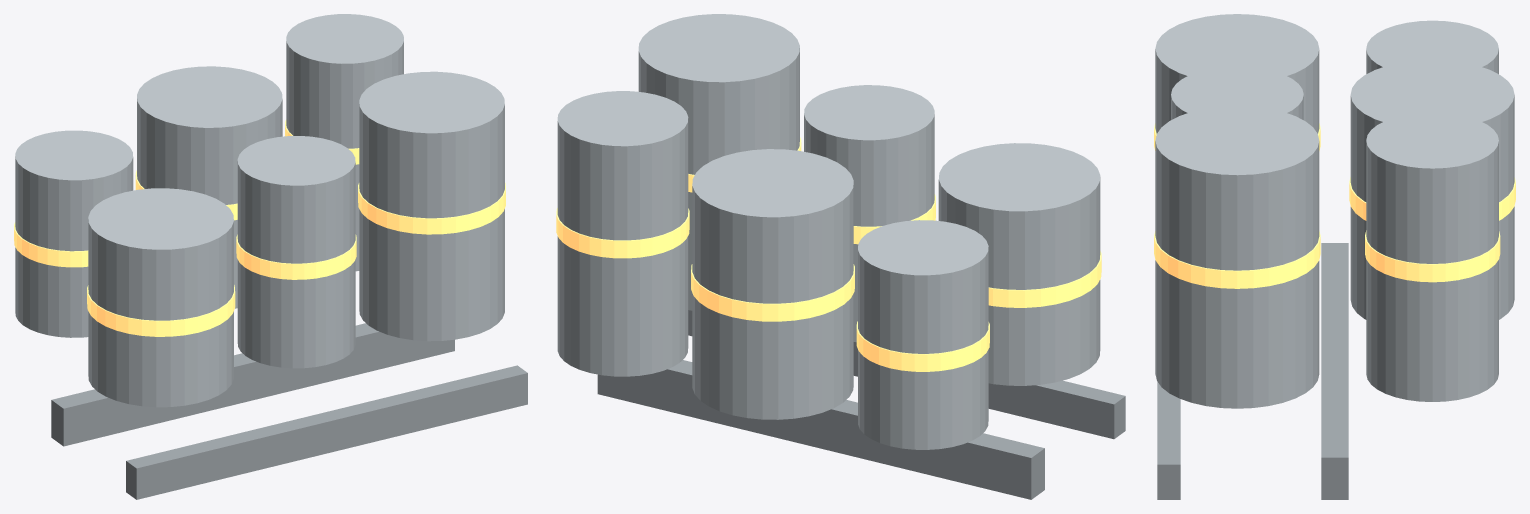
File: tanks.glb
3 views of the same model, side by side, from view 1: azimuth 30°, elevation 25°; view 2: azimuth 150°, elevation 25°; view 3: azimuth 270°, elevation 25° (orthographic). The views are drawn at different scales.
Visible parts, largest first — view 1: wall_panel, trim_metal, warning_band; view 2: wall_panel, trim_metal, warning_band; view 3: wall_panel, trim_metal, warning_band.
Part boxes in pixels (x1=…): wall_panel: x1=15, y1=14, x2=504, y2=407; trim_metal: x1=51, y1=323, x2=527, y2=499; warning_band: x1=14, y1=119, x2=505, y2=336; wall_panel: x1=557, y1=14, x2=1100, y2=449; trim_metal: x1=597, y1=310, x2=1125, y2=499; warning_band: x1=556, y1=137, x2=1101, y2=371; wall_panel: x1=1155, y1=14, x2=1514, y2=408; trim_metal: x1=1157, y1=243, x2=1348, y2=499; warning_band: x1=1154, y1=123, x2=1515, y2=288.
Size of the model in its own units: 26.54 by 18.45 by 18.54.
